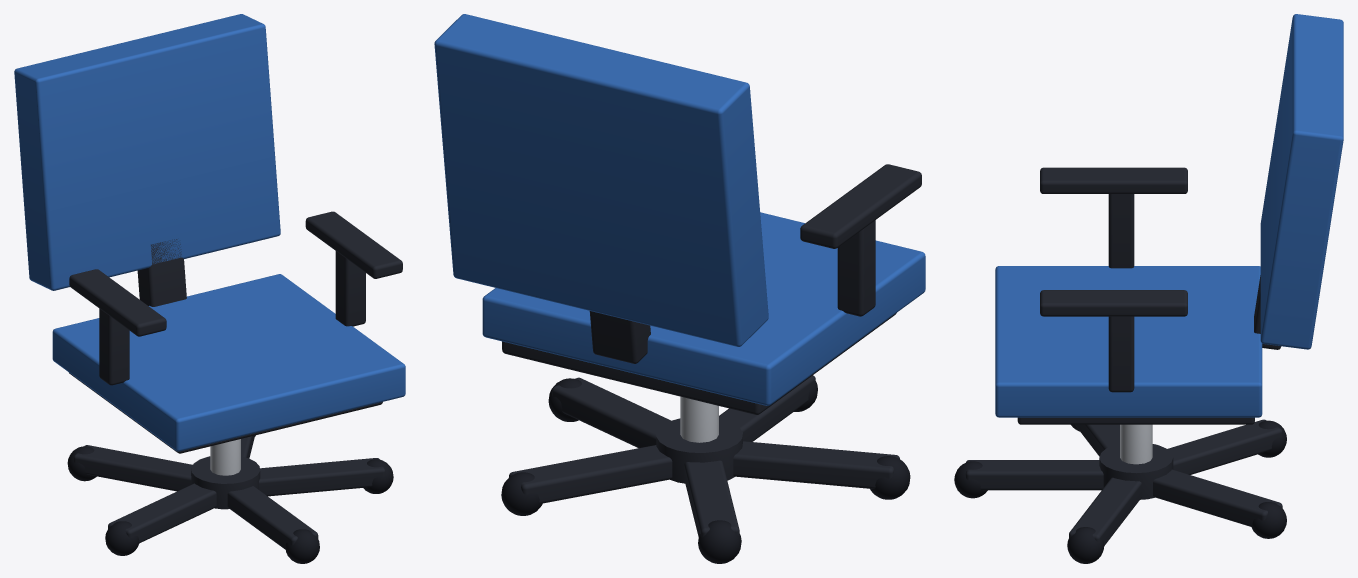
Rendered from office-chair.glb.
3 renders of one model, left to right at view 1: azimuth 30°, elevation 25°; view 2: azimuth 150°, elevation 25°; view 3: azimuth 270°, elevation 25°, orthographic. The views are drawn at different scales.
Parts seen in each view (by area): view 1: office-chair-solid, office-chair-metal; view 2: office-chair-solid, office-chair-metal; view 3: office-chair-solid, office-chair-metal.
Boxes of the visible parts, x1,y1,x2,y2 form: office-chair-solid: (14,14,405,563); office-chair-metal: (210,439,240,475); office-chair-solid: (434,14,925,563); office-chair-metal: (680,396,718,442); office-chair-solid: (954,14,1343,563); office-chair-metal: (1120,424,1152,464).
Size of the model in its own units: 0.3748 by 0.5041 by 0.4193.
